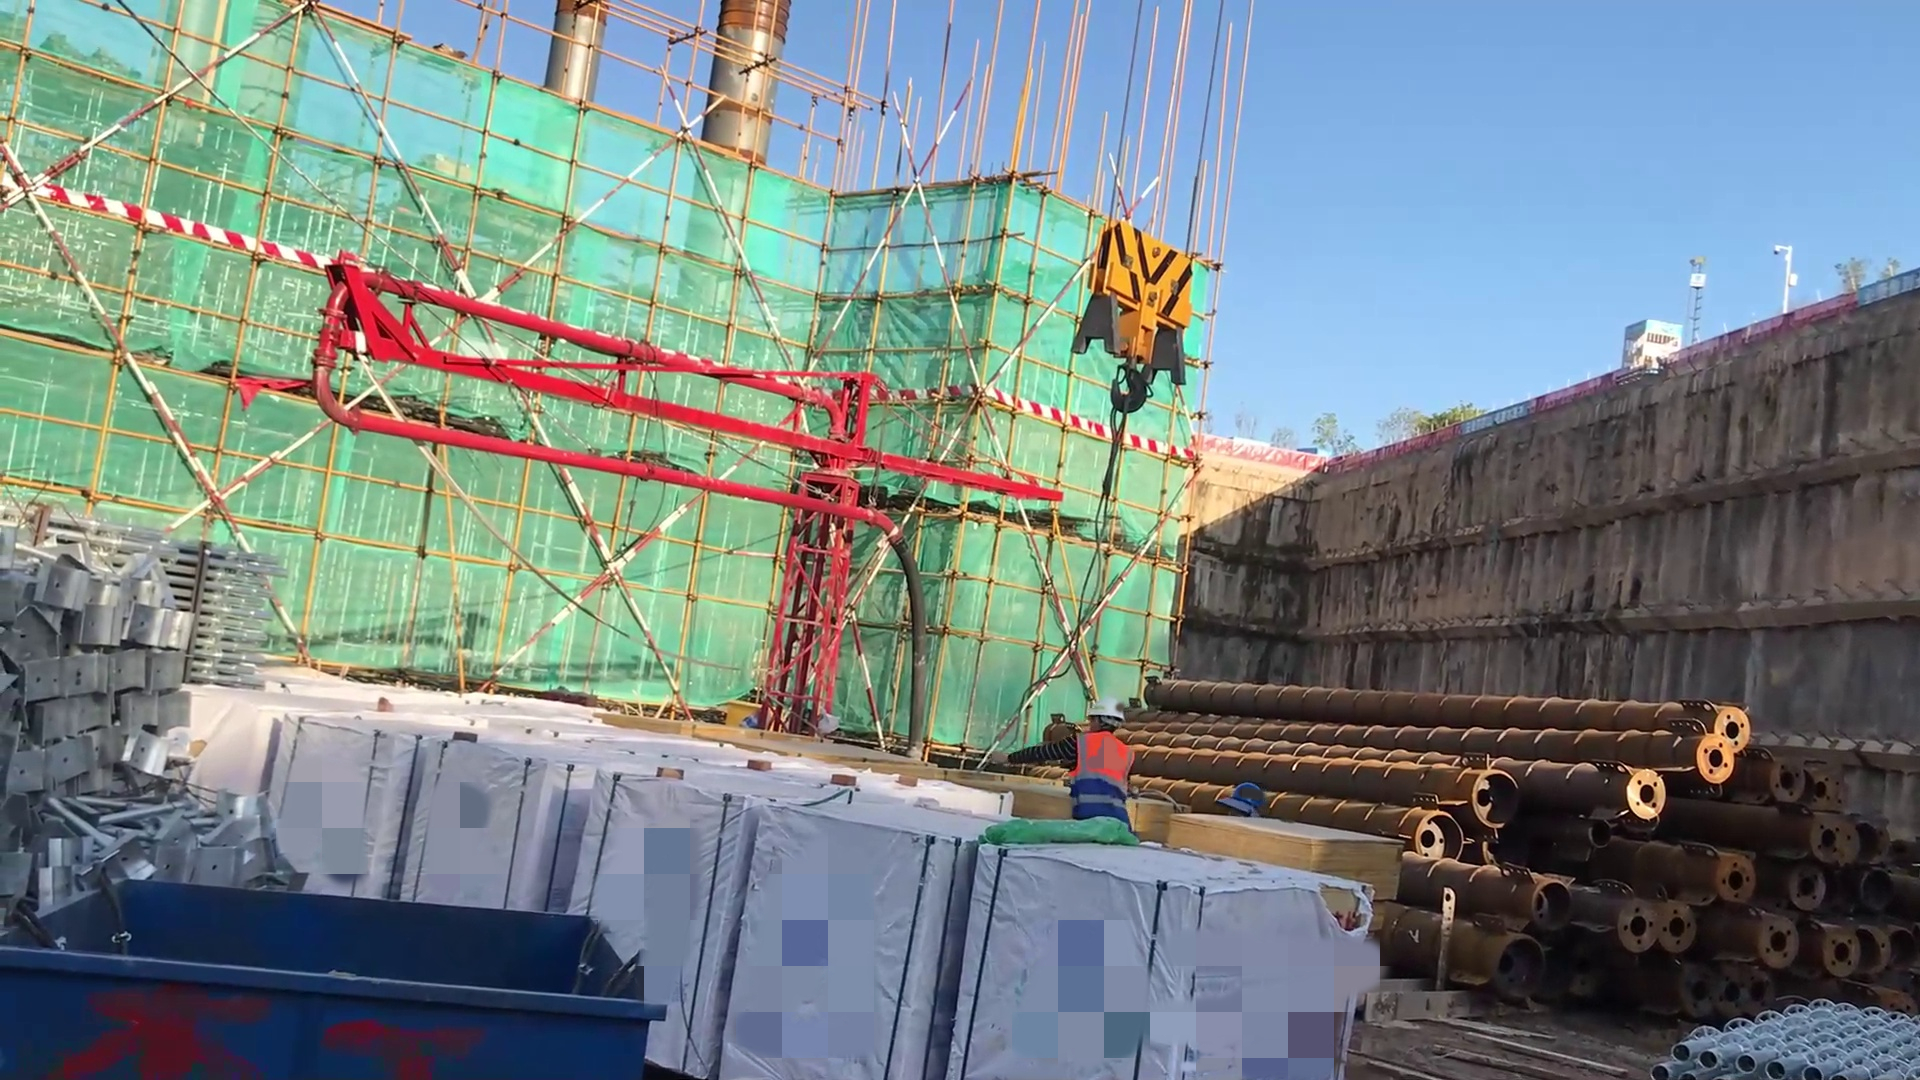board: (1140, 798, 1398, 916)
ebox: (713, 698, 797, 742)
helmet: (1212, 768, 1273, 836), (1072, 699, 1129, 743)
hook: (1068, 214, 1223, 462)
hopper: (1, 891, 668, 1080)
person: (984, 693, 1151, 823)
scaffold: (58, 525, 292, 671), (1616, 976, 1920, 1080)
slogan: (1847, 266, 1920, 310), (1469, 398, 1531, 442)
vest: (1065, 729, 1146, 825)
